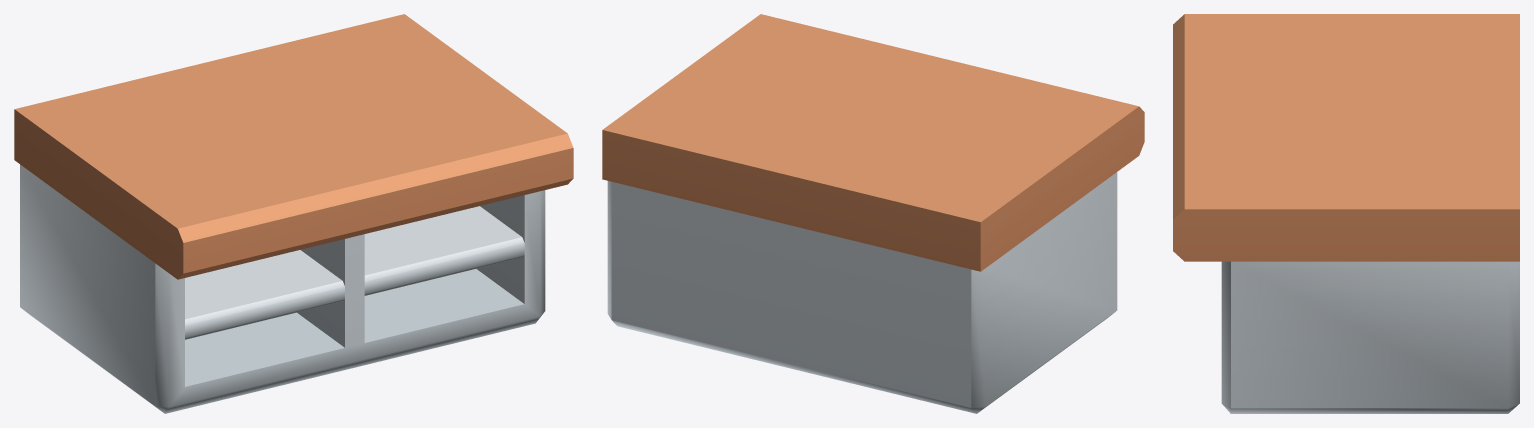
The model's file is countertop-straight-b-long.glb.
3 renders of one model, left to right at view 1: azimuth 30°, elevation 25°; view 2: azimuth 150°, elevation 25°; view 3: azimuth 270°, elevation 25°, orthographic. The views are drawn at different scales.
Parts seen in each view (by area): view 1: countertop_straight_B_long; view 2: countertop_straight_B_long; view 3: countertop_straight_B_long.
Part boxes in pixels (x1=…): countertop_straight_B_long: x1=14, y1=14, x2=573, y2=413; countertop_straight_B_long: x1=602, y1=14, x2=1144, y2=413; countertop_straight_B_long: x1=1173, y1=14, x2=1519, y2=413.
Size of the model in its own units: 2 by 1 by 1.5.
Materials: 1 (1 with a texture image).
